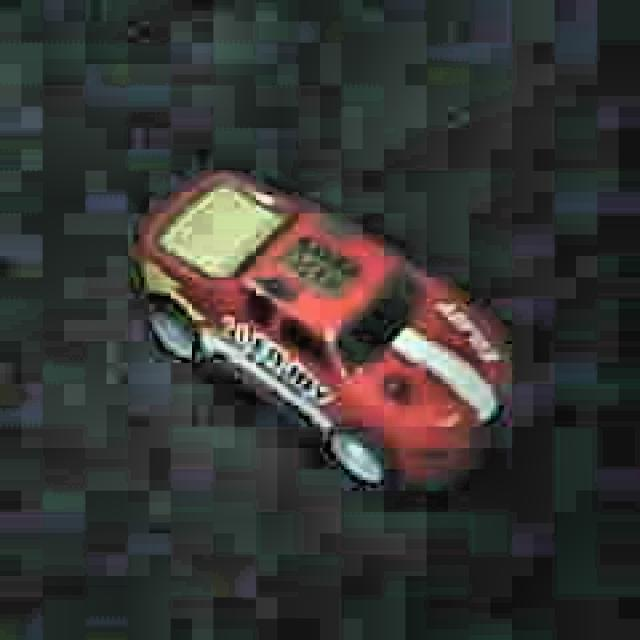car: (138, 162, 516, 494)
